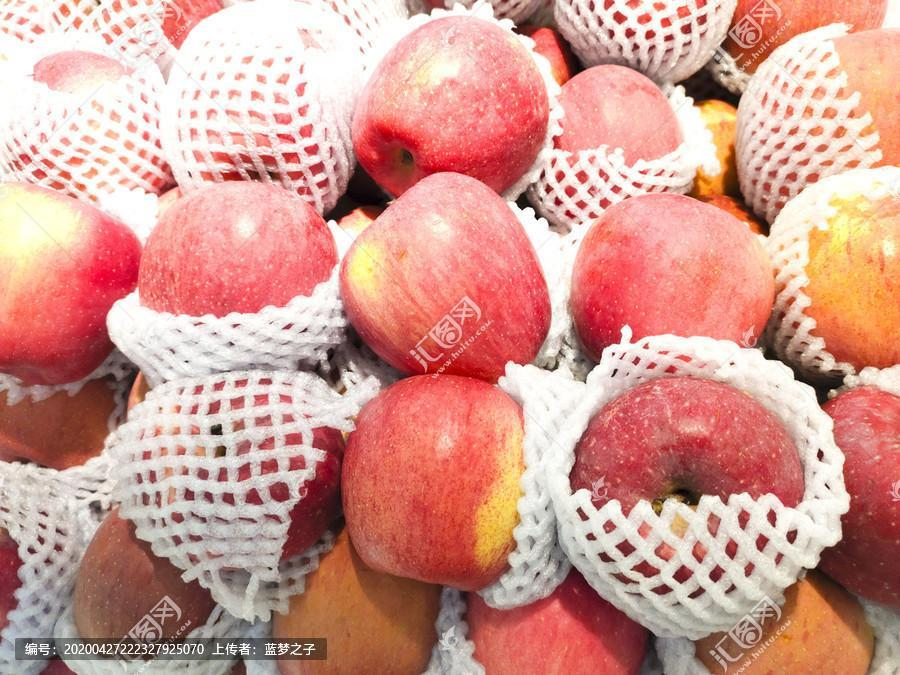apple: (333, 173, 551, 380), (337, 373, 525, 595), (344, 11, 551, 199), (730, 18, 900, 226), (570, 190, 773, 363), (570, 373, 810, 509), (758, 169, 899, 383), (136, 179, 341, 321), (1, 179, 142, 379), (271, 542, 436, 672), (460, 578, 652, 671), (76, 515, 216, 637), (558, 63, 683, 173)
